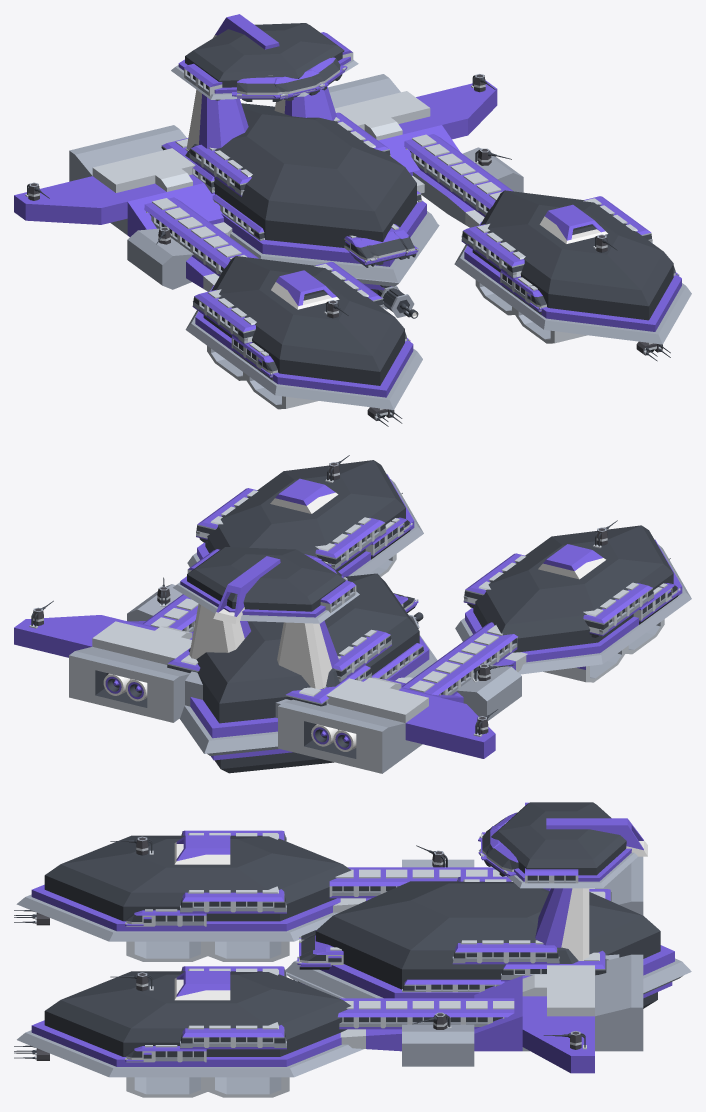
The model's file is amiral_2.glb.
3 renders of one model, top to bottom at view 1: azimuth 30°, elevation 25°; view 2: azimuth 150°, elevation 25°; view 3: azimuth 270°, elevation 25°, orthographic. The views are drawn at different scales.
Visible parts, largest first — view 1: mergedBlocks(Clone); view 2: mergedBlocks(Clone); view 3: mergedBlocks(Clone).
Boxes of the visible parts, left/top/right/bottom form: mergedBlocks(Clone): left=14, top=14, right=691, bottom=426; mergedBlocks(Clone): left=14, top=455, right=691, bottom=773; mergedBlocks(Clone): left=14, top=802, right=691, bottom=1097.
Size of the model in its own units: 21.05 by 8.24 by 25.34.
Materials: 1 (1 with a texture image).
